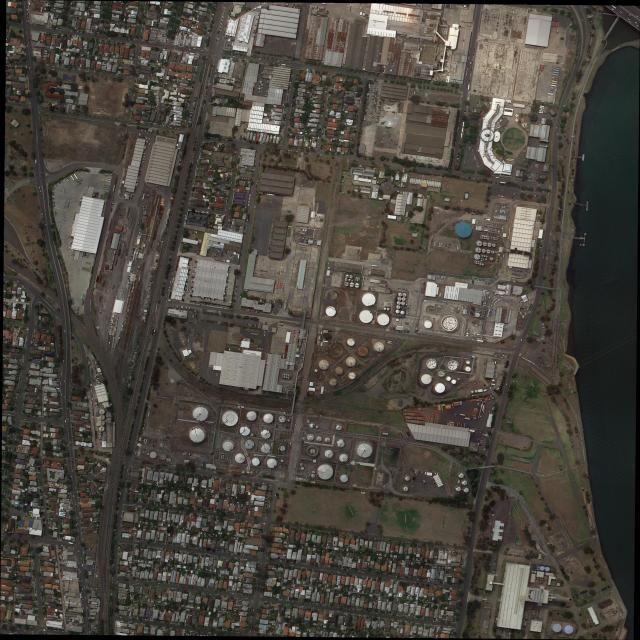large-vehicle: (487, 309, 491, 317), (81, 251, 84, 259), (276, 281, 279, 289), (67, 201, 70, 208), (280, 282, 283, 288), (282, 284, 284, 292), (267, 194, 275, 196), (372, 265, 380, 267), (69, 542, 74, 545), (279, 281, 281, 288), (461, 133, 463, 138), (75, 500, 77, 505), (468, 85, 470, 90), (463, 122, 465, 127), (462, 127, 464, 132), (58, 229, 60, 233), (282, 64, 286, 66), (294, 306, 301, 307)
small-vehicle: (165, 294, 168, 298), (63, 179, 66, 182), (563, 135, 566, 138), (552, 241, 555, 244), (551, 252, 554, 255), (219, 27, 222, 30), (78, 550, 80, 553), (78, 529, 80, 532), (62, 562, 65, 564), (37, 605, 39, 608), (62, 589, 65, 591), (60, 571, 63, 573), (13, 281, 16, 283), (17, 281, 20, 283), (63, 318, 65, 321), (64, 330, 66, 333), (44, 417, 47, 419), (77, 504, 79, 507), (15, 435, 17, 438), (41, 461, 43, 464), (125, 256, 127, 259), (127, 264, 129, 267), (127, 469, 129, 472), (144, 6, 146, 9), (143, 153, 146, 155), (199, 304, 202, 306), (222, 307, 225, 309), (182, 297, 185, 299), (126, 287, 129, 289), (168, 288, 170, 291), (182, 306, 184, 309), (89, 631, 91, 634), (97, 610, 99, 613), (87, 613, 89, 616), (183, 550, 186, 552), (135, 579, 138, 581), (112, 566, 114, 569), (171, 545, 174, 547), (137, 583, 140, 585), (175, 624, 178, 626), (27, 16, 29, 19), (159, 125, 162, 127), (155, 106, 158, 108), (147, 131, 149, 134), (59, 31, 62, 33), (141, 129, 143, 132), (143, 136, 145, 139), (55, 184, 58, 186), (53, 187, 56, 189), (5, 187, 7, 190), (138, 27, 140, 30), (140, 34, 142, 37), (90, 17, 93, 19), (11, 75, 14, 77), (196, 69, 198, 72), (183, 86, 186, 88), (186, 88, 189, 90), (209, 83, 211, 86), (193, 100, 196, 102), (188, 104, 190, 107), (127, 38, 130, 40), (130, 41, 133, 43), (117, 41, 120, 43), (135, 55, 137, 58), (158, 42, 161, 44), (164, 46, 167, 48), (467, 65, 469, 68), (566, 120, 569, 122), (557, 133, 559, 136), (565, 130, 567, 133), (471, 110, 474, 112), (552, 244, 554, 247), (540, 242, 543, 244), (498, 195, 501, 197), (527, 193, 529, 196), (375, 92, 378, 94), (374, 102, 377, 104), (373, 103, 376, 105), (370, 109, 373, 111), (391, 184, 394, 186), (392, 185, 395, 187), (393, 186, 396, 188), (211, 593, 214, 595), (480, 440, 483, 442), (480, 442, 483, 444), (483, 449, 486, 451), (491, 410, 494, 412), (492, 406, 495, 408), (498, 384, 501, 386), (506, 383, 508, 386), (484, 631, 487, 633), (462, 565, 464, 568), (492, 571, 495, 573), (517, 381, 520, 383), (494, 374, 497, 376), (543, 336, 546, 338), (537, 339, 539, 342), (503, 364, 506, 366), (520, 301, 523, 303), (436, 545, 439, 547), (261, 552, 263, 555), (341, 532, 344, 534), (234, 557, 237, 559), (261, 562, 263, 565), (321, 569, 324, 571), (445, 622, 448, 624), (414, 582, 417, 584), (433, 581, 436, 583), (451, 587, 454, 589), (320, 602, 323, 604), (400, 619, 403, 621), (266, 82, 269, 84), (207, 104, 209, 107), (231, 69, 234, 71), (232, 65, 235, 67), (264, 95, 267, 97), (260, 90, 263, 92), (225, 24, 227, 27), (217, 36, 220, 38), (224, 4, 227, 6), (223, 5, 226, 7), (259, 58, 262, 60), (281, 60, 284, 62), (216, 41, 218, 44), (249, 227, 251, 230), (185, 214, 187, 217), (206, 109, 208, 112), (64, 548, 66, 550), (64, 561, 66, 563), (62, 560, 64, 562), (61, 560, 63, 562), (60, 560, 62, 562), (34, 576, 36, 578), (87, 554, 89, 556), (83, 552, 85, 554), (42, 542, 44, 544), (61, 564, 63, 566), (81, 581, 83, 583), (80, 589, 82, 591), (37, 603, 39, 605), (20, 614, 22, 616), (81, 558, 83, 560), (83, 564, 85, 566), (43, 509, 45, 511), (18, 617, 20, 619), (45, 224, 47, 226), (92, 474, 94, 476), (10, 450, 12, 452), (7, 471, 9, 473), (137, 244, 139, 246), (140, 167, 142, 169), (164, 471, 166, 473), (247, 319, 249, 321), (202, 318, 204, 320), (235, 293, 237, 295), (241, 284, 243, 286), (163, 313, 165, 315), (81, 596, 83, 598), (95, 598, 97, 600), (85, 596, 87, 598), (86, 607, 88, 609), (89, 587, 91, 589), (92, 591, 94, 593), (151, 579, 153, 581), (20, 629, 22, 631), (1, 624, 3, 626), (130, 621, 132, 623), (150, 618, 152, 620), (26, 19, 28, 21), (162, 122, 164, 124), (146, 123, 148, 125), (143, 130, 145, 132), (142, 130, 144, 132), (163, 125, 165, 127), (175, 127, 177, 129), (40, 194, 42, 196), (42, 213, 44, 215), (62, 180, 64, 182), (60, 182, 62, 184), (58, 182, 60, 184), (54, 186, 56, 188), (53, 188, 55, 190), (146, 137, 148, 139), (147, 138, 149, 140), (148, 143, 150, 145), (117, 23, 119, 25), (141, 28, 143, 30), (18, 79, 20, 81), (92, 33, 94, 35), (85, 36, 87, 38), (189, 48, 191, 50), (201, 63, 203, 65), (200, 65, 202, 67), (183, 46, 185, 48), (133, 67, 135, 69), (178, 45, 180, 47), (183, 296, 185, 298), (471, 65, 473, 67), (472, 59, 474, 61), (563, 105, 565, 107), (563, 140, 565, 142), (563, 142, 565, 144), (487, 104, 489, 106), (469, 80, 471, 82), (466, 71, 468, 73), (469, 77, 471, 79), (553, 238, 555, 240), (553, 240, 555, 242), (552, 243, 554, 245), (542, 240, 544, 242), (204, 589, 206, 591), (543, 190, 545, 192), (373, 91, 375, 93), (380, 98, 382, 100), (376, 89, 378, 91), (381, 184, 383, 186), (382, 183, 384, 185), (455, 142, 457, 144), (383, 182, 385, 184), (473, 178, 475, 180), (469, 147, 471, 149), (480, 444, 482, 446), (529, 621, 531, 623), (484, 446, 486, 448), (484, 448, 486, 450), (544, 335, 546, 337), (543, 337, 545, 339), (542, 338, 544, 340), (541, 338, 543, 340), (257, 580, 259, 582), (195, 462, 197, 464), (214, 471, 216, 473), (274, 322, 276, 324), (206, 553, 208, 555), (401, 580, 403, 582), (384, 624, 386, 626), (213, 78, 215, 80), (230, 72, 234, 73), (232, 67, 234, 69), (214, 88, 216, 90), (261, 88, 263, 90), (261, 87, 263, 89), (244, 59, 246, 61), (223, 31, 225, 33), (218, 33, 220, 35), (219, 29, 221, 31), (220, 24, 222, 26), (225, 2, 227, 4), (218, 38, 220, 40), (287, 65, 289, 67), (207, 37, 209, 39), (208, 33, 210, 35), (229, 207, 231, 209), (183, 215, 185, 217), (231, 177, 233, 179), (66, 549, 69, 550), (58, 549, 61, 550), (70, 558, 71, 561), (71, 558, 72, 561), (75, 559, 76, 562), (29, 568, 32, 569), (35, 578, 36, 581), (45, 521, 46, 524), (84, 532, 87, 533), (32, 551, 33, 554), (60, 563, 61, 566), (84, 586, 85, 589), (82, 588, 83, 591), (41, 596, 42, 599), (33, 601, 36, 602), (37, 598, 38, 601), (26, 614, 27, 617), (78, 562, 79, 565), (82, 564, 83, 567), (62, 581, 65, 582), (62, 583, 65, 584), (70, 516, 71, 519), (61, 393, 62, 396), (23, 361, 24, 364), (63, 360, 64, 363), (56, 381, 59, 382), (64, 380, 65, 383), (60, 382, 61, 385), (64, 396, 65, 399), (91, 402, 92, 405), (89, 408, 90, 411), (8, 414, 11, 415), (24, 419, 27, 420), (30, 348, 31, 351), (31, 341, 32, 344), (53, 207, 56, 208), (80, 198, 83, 199), (80, 197, 83, 198), (80, 200, 83, 201), (32, 337, 33, 340), (48, 418, 51, 419), (4, 490, 5, 493), (69, 504, 70, 507), (44, 422, 47, 423), (65, 420, 66, 423), (68, 444, 69, 447), (70, 441, 71, 444), (69, 436, 70, 439), (92, 439, 93, 442), (81, 479, 84, 480), (34, 615, 37, 616), (257, 582, 258, 585), (139, 171, 142, 172), (138, 174, 141, 175), (131, 251, 134, 252), (131, 252, 134, 253), (131, 254, 134, 255), (128, 275, 131, 276), (128, 276, 131, 277), (127, 279, 130, 280), (127, 280, 130, 281), (127, 281, 130, 282), (127, 282, 130, 283), (139, 169, 142, 170), (142, 161, 145, 162), (142, 160, 145, 161), (119, 497, 120, 500), (161, 505, 164, 506), (131, 491, 134, 492), (196, 473, 199, 474), (143, 156, 146, 157), (126, 284, 129, 285), (126, 285, 129, 286), (126, 286, 129, 287), (196, 304, 199, 305), (204, 305, 207, 306), (176, 305, 177, 308), (178, 306, 179, 309), (168, 300, 171, 301), (141, 308, 142, 311), (191, 307, 192, 310), (186, 306, 187, 309), (162, 548, 165, 549), (94, 628, 97, 629), (95, 625, 98, 626), (53, 630, 56, 631), (56, 630, 59, 631), (94, 591, 97, 592), (94, 593, 97, 594), (94, 594, 97, 595), (89, 596, 92, 597), (68, 620, 71, 621), (18, 628, 19, 631), (146, 581, 149, 582), (157, 583, 160, 584), (157, 586, 160, 587), (126, 539, 129, 540), (137, 541, 140, 542), (168, 545, 171, 546), (19, 628, 20, 631), (123, 617, 126, 618), (151, 615, 152, 618), (197, 628, 200, 629), (27, 12, 28, 15), (28, 19, 29, 22), (52, 200, 55, 201), (59, 29, 62, 30), (143, 123, 146, 124), (145, 130, 146, 133), (139, 128, 140, 131), (139, 133, 140, 136), (191, 108, 194, 109), (191, 109, 194, 110), (190, 112, 193, 113), (190, 114, 193, 115), (190, 116, 193, 117), (189, 118, 192, 119), (189, 119, 192, 120), (177, 128, 180, 129), (145, 136, 146, 139), (62, 180, 63, 183), (52, 189, 55, 190), (52, 192, 55, 193), (52, 194, 55, 195), (52, 196, 55, 197), (52, 199, 55, 200), (39, 186, 40, 189), (26, 85, 27, 88), (58, 106, 61, 107), (64, 104, 67, 105), (64, 106, 67, 107), (70, 104, 73, 105), (69, 107, 72, 108), (192, 105, 195, 106), (49, 66, 52, 67), (52, 69, 55, 70), (59, 67, 62, 68), (66, 68, 69, 69), (85, 71, 88, 72), (88, 71, 91, 72), (126, 77, 129, 78), (141, 30, 142, 33), (74, 35, 77, 36), (26, 32, 27, 35), (29, 67, 30, 70), (17, 62, 20, 63), (108, 38, 111, 39), (198, 63, 199, 66), (180, 86, 183, 87), (193, 102, 196, 103), (180, 46, 183, 47), (121, 42, 124, 43), (113, 41, 116, 42), (149, 41, 152, 42), (146, 45, 149, 46), (190, 292, 193, 293), (190, 290, 193, 291), (464, 110, 467, 111), (469, 57, 470, 60), (464, 108, 467, 109), (485, 102, 486, 105), (486, 103, 487, 106), (465, 78, 466, 81), (471, 68, 472, 71), (467, 68, 468, 71), (466, 73, 467, 76), (556, 154, 557, 157), (535, 194, 536, 197), (540, 242, 543, 243), (540, 245, 543, 246), (539, 246, 542, 247), (539, 247, 542, 248), (201, 589, 204, 590), (499, 188, 500, 191), (542, 190, 543, 193), (552, 194, 553, 197), (546, 196, 547, 199), (464, 109, 467, 110), (370, 113, 373, 114), (379, 102, 382, 103), (378, 106, 381, 107), (377, 113, 380, 114), (376, 119, 379, 120), (403, 168, 404, 171), (372, 111, 375, 112), (372, 109, 375, 110), (375, 94, 378, 95), (374, 97, 377, 98), (374, 98, 377, 99), (374, 99, 377, 100), (374, 101, 377, 102), (373, 105, 376, 106), (457, 129, 458, 132), (470, 123, 471, 126), (462, 147, 465, 148), (476, 178, 477, 181), (454, 149, 455, 152), (453, 154, 454, 157), (472, 154, 473, 157), (217, 594, 220, 595), (489, 411, 490, 414), (491, 413, 494, 414), (492, 408, 495, 409), (500, 378, 503, 379), (479, 627, 482, 628), (486, 626, 489, 627), (462, 556, 463, 559), (469, 549, 470, 552), (490, 555, 493, 556), (494, 561, 497, 562), (493, 569, 496, 570), (486, 609, 489, 610), (488, 611, 491, 612), (487, 613, 490, 614), (487, 614, 490, 615), (486, 625, 489, 626), (513, 381, 516, 382), (540, 339, 541, 342), (539, 339, 540, 342), (536, 339, 537, 342), (532, 338, 533, 341), (494, 369, 497, 370), (503, 366, 506, 367), (499, 350, 502, 351), (523, 307, 524, 310), (522, 307, 523, 310), (520, 307, 521, 310), (475, 212, 476, 215), (200, 513, 203, 514), (218, 513, 221, 514), (201, 464, 204, 465), (373, 532, 374, 535), (377, 538, 380, 539), (263, 543, 264, 546), (244, 559, 247, 560), (303, 567, 306, 568), (240, 598, 243, 599), (245, 598, 248, 599), (253, 609, 254, 612), (265, 601, 268, 602), (250, 630, 251, 633), (256, 590, 257, 593), (260, 566, 261, 569), (291, 565, 294, 566), (434, 626, 435, 629), (403, 581, 406, 582), (401, 577, 404, 578), (427, 581, 430, 582), (446, 584, 449, 585), (449, 584, 452, 585), (439, 586, 442, 587), (431, 585, 434, 586), (448, 626, 451, 627), (337, 572, 340, 573), (415, 618, 418, 619), (346, 570, 349, 571), (284, 600, 287, 601), (291, 601, 294, 602), (285, 604, 288, 605), (294, 605, 297, 606), (345, 618, 346, 621), (267, 80, 270, 81), (261, 84, 264, 85), (265, 93, 268, 94), (243, 64, 246, 65), (217, 34, 220, 35), (219, 26, 222, 27), (228, 12, 229, 15), (223, 33, 224, 36), (260, 57, 263, 58), (269, 59, 272, 60), (272, 59, 275, 60), (277, 61, 280, 62), (207, 32, 210, 33), (207, 106, 208, 109), (373, 89, 376, 90), (227, 229, 230, 230), (247, 219, 248, 222), (229, 210, 230, 213), (224, 190, 227, 191), (231, 182, 232, 185), (234, 174, 235, 177), (195, 171, 196, 174), (196, 231, 197, 234), (198, 247, 201, 248), (198, 248, 201, 249), (257, 585, 258, 587), (72, 559, 73, 561), (59, 550, 61, 551), (59, 552, 61, 553), (77, 517, 78, 519), (38, 569, 39, 571), (89, 548, 90, 550), (25, 561, 27, 562), (78, 523, 79, 525), (54, 540, 56, 541), (60, 537, 61, 539), (61, 545, 63, 546), (80, 546, 81, 548), (37, 557, 38, 559), (33, 563, 34, 565), (38, 563, 39, 565), (63, 588, 65, 589), (84, 580, 85, 582), (83, 573, 84, 575), (85, 582, 86, 584), (81, 591, 82, 593), (38, 612, 39, 614), (25, 615, 26, 617), (63, 587, 65, 588), (63, 564, 64, 566), (63, 585, 65, 586), (64, 564, 65, 566), (93, 565, 94, 567), (79, 569, 80, 571), (79, 572, 80, 574), (80, 571, 81, 573), (30, 585, 32, 586), (36, 591, 37, 593), (80, 580, 81, 582), (61, 577, 63, 578), (4, 364, 6, 365), (57, 355, 58, 357), (93, 369, 94, 371), (68, 517, 69, 519), (67, 407, 68, 409), (92, 401, 93, 403), (33, 416, 35, 417), (27, 420, 29, 421), (8, 358, 9, 360), (7, 358, 8, 360), (53, 204, 55, 205), (53, 205, 55, 206), (53, 206, 55, 207), (80, 201, 82, 202), (71, 242, 73, 243), (70, 243, 72, 244), (32, 335, 33, 337), (56, 423, 58, 424), (75, 487, 76, 489), (67, 493, 69, 494), (73, 495, 74, 497), (71, 497, 72, 499), (72, 502, 73, 504), (5, 485, 6, 487), (5, 488, 6, 490), (4, 493, 5, 495), (74, 510, 75, 512), (78, 510, 79, 512), (66, 516, 67, 518), (42, 489, 43, 491), (97, 474, 99, 475), (54, 423, 56, 424), (68, 418, 69, 420), (75, 421, 77, 422), (13, 434, 14, 436), (15, 438, 16, 440), (83, 447, 85, 448), (71, 476, 72, 478), (81, 594, 82, 596), (132, 194, 134, 195), (131, 255, 133, 256), (118, 511, 119, 513), (128, 277, 130, 278), (127, 283, 129, 284), (163, 513, 164, 515), (168, 511, 169, 513), (173, 510, 175, 511), (134, 504, 136, 505), (120, 493, 121, 495), (125, 483, 126, 485), (145, 2, 146, 4), (143, 159, 145, 160), (177, 306, 178, 308), (174, 305, 175, 307), (226, 316, 227, 318), (235, 298, 236, 300), (240, 296, 241, 298), (236, 290, 237, 292), (231, 292, 233, 293), (237, 287, 238, 289), (180, 306, 181, 308), (172, 273, 173, 275), (170, 281, 171, 283), (169, 286, 170, 288), (193, 308, 194, 310), (190, 308, 191, 310), (189, 307, 190, 309), (187, 307, 188, 309), (185, 307, 186, 309), (181, 306, 182, 308), (121, 515, 122, 517), (98, 598, 99, 600), (93, 598, 94, 600), (90, 597, 91, 599), (99, 605, 100, 607), (99, 608, 100, 610), (95, 627, 97, 628), (95, 629, 97, 630), (95, 630, 97, 631), (62, 631, 64, 632), (95, 592, 97, 593), (83, 599, 84, 601), (82, 601, 83, 603), (82, 605, 83, 607), (83, 607, 84, 609), (83, 610, 84, 612), (91, 587, 92, 589), (90, 590, 91, 592), (89, 591, 90, 593), (92, 596, 94, 597), (95, 596, 97, 597), (95, 595, 97, 596), (69, 618, 71, 619), (170, 588, 172, 589), (172, 588, 174, 589), (175, 588, 177, 589), (113, 564, 114, 566), (115, 538, 116, 540), (115, 532, 116, 534), (112, 577, 113, 579), (112, 580, 113, 582), (25, 630, 26, 632), (15, 632, 17, 633), (6, 623, 8, 624), (3, 623, 5, 624), (114, 631, 115, 633), (141, 623, 143, 624), (111, 604, 112, 606), (111, 593, 112, 595), (112, 583, 113, 585), (53, 203, 55, 204), (53, 202, 55, 203), (53, 201, 55, 202), (27, 9, 28, 11), (50, 28, 52, 29), (150, 132, 151, 134), (157, 125, 159, 126), (148, 124, 150, 125), (134, 122, 136, 123), (140, 129, 141, 131), (140, 134, 141, 136), (170, 127, 172, 128), (192, 107, 194, 108), (191, 110, 193, 111), (191, 111, 193, 112), (190, 113, 192, 114), (190, 115, 192, 116), (190, 117, 192, 118), (189, 121, 191, 122), (189, 122, 191, 123), (187, 125, 188, 127), (142, 134, 143, 136), (52, 193, 54, 194), (53, 197, 55, 198), (42, 204, 43, 206), (40, 190, 41, 192), (149, 138, 150, 140), (22, 89, 24, 90), (59, 108, 61, 109), (64, 107, 66, 108), (64, 108, 66, 109), (192, 106, 194, 107), (193, 104, 195, 105), (64, 68, 66, 69), (101, 73, 103, 74), (111, 75, 113, 76), (121, 76, 123, 77), (142, 23, 143, 25), (52, 67, 54, 68), (20, 79, 21, 81), (138, 33, 139, 35), (70, 16, 72, 17), (80, 32, 82, 33), (88, 33, 90, 34), (27, 45, 28, 47), (28, 55, 29, 57), (10, 64, 12, 65), (138, 31, 139, 33), (193, 103, 195, 104), (193, 52, 195, 53), (202, 60, 203, 62), (176, 73, 178, 74), (170, 63, 171, 65), (194, 99, 196, 100), (185, 120, 186, 122), (201, 50, 203, 51), (117, 37, 119, 38), (149, 46, 151, 47), (139, 51, 140, 53), (138, 56, 139, 58), (163, 48, 165, 49), (165, 48, 167, 49), (474, 48, 475, 50), (468, 63, 469, 65), (472, 62, 473, 64), (473, 56, 474, 58), (473, 54, 474, 56), (474, 51, 475, 53), (475, 18, 476, 20), (556, 127, 557, 129), (468, 60, 469, 62), (469, 54, 470, 56), (470, 48, 471, 50), (469, 110, 470, 112), (476, 102, 477, 104), (470, 74, 471, 76), (471, 72, 472, 74), (502, 177, 503, 179), (503, 177, 504, 179), (533, 194, 534, 196), (569, 89, 570, 91), (583, 46, 584, 48), (534, 194, 535, 196), (536, 195, 537, 197), (505, 177, 506, 179), (534, 189, 535, 191), (536, 189, 537, 191), (538, 189, 539, 191), (495, 188, 496, 190), (502, 189, 503, 191), (514, 192, 515, 194), (512, 197, 513, 199), (527, 188, 528, 190), (546, 191, 547, 193), (464, 111, 466, 112), (370, 116, 372, 117), (379, 103, 381, 104), (379, 104, 381, 105), (379, 105, 381, 106), (377, 115, 379, 116), (464, 112, 466, 113), (377, 116, 379, 117), (377, 118, 379, 119), (402, 168, 403, 170), (373, 110, 375, 111), (373, 108, 375, 109), (376, 90, 378, 91), (376, 91, 378, 92), (373, 94, 375, 95), (374, 100, 376, 101), (371, 106, 373, 107), (405, 168, 406, 170), (469, 141, 470, 143), (456, 163, 458, 164), (456, 162, 458, 163), (457, 159, 459, 160), (457, 158, 459, 159), (457, 157, 459, 158), (455, 144, 456, 146), (456, 137, 457, 139), (457, 132, 458, 134), (458, 127, 459, 129), (459, 120, 460, 122), (459, 117, 460, 119), (473, 124, 474, 126), (469, 149, 470, 151), (473, 155, 474, 157), (385, 182, 386, 184), (492, 176, 493, 178), (454, 152, 455, 154), (453, 157, 454, 159), (453, 159, 454, 161), (471, 147, 472, 149), (472, 147, 473, 149), (232, 593, 234, 594), (474, 444, 475, 446), (485, 443, 487, 444), (241, 594, 243, 595), (492, 409, 494, 410), (508, 629, 509, 631), (461, 562, 463, 563), (495, 559, 497, 560), (494, 563, 496, 564), (494, 564, 496, 565), (493, 570, 495, 571), (542, 324, 544, 325), (543, 327, 545, 328), (544, 332, 546, 333), (535, 339, 536, 341), (534, 339, 535, 341), (376, 613, 378, 614), (370, 612, 372, 613), (542, 326, 544, 327), (542, 323, 544, 324), (476, 213, 477, 215), (525, 308, 526, 310), (520, 312, 521, 314), (521, 312, 522, 314), (522, 312, 523, 314), (523, 312, 524, 314), (524, 313, 525, 315), (490, 215, 491, 217), (468, 212, 469, 214), (469, 212, 470, 214), (407, 542, 409, 543), (382, 538, 384, 539), (274, 563, 276, 564), (280, 561, 282, 562), (210, 520, 211, 522), (271, 493, 272, 495), (276, 323, 277, 325), (251, 620, 252, 622), (254, 631, 255, 633), (264, 566, 265, 568), (208, 554, 210, 555), (210, 551, 212, 552), (221, 556, 223, 557), (231, 554, 233, 555), (410, 578, 412, 579), (382, 614, 384, 615), (391, 610, 392, 612), (394, 580, 396, 581), (410, 582, 412, 583), (417, 579, 419, 580), (433, 621, 435, 622), (362, 572, 364, 573), (355, 576, 356, 578), (356, 576, 357, 578), (302, 606, 304, 607), (337, 611, 339, 612), (348, 609, 350, 610), (399, 616, 401, 617), (411, 618, 413, 619), (373, 92, 375, 93), (373, 90, 375, 91), (185, 289, 187, 290), (262, 83, 264, 84), (260, 83, 262, 84), (262, 82, 264, 83), (262, 78, 264, 79), (267, 81, 269, 82), (213, 81, 214, 83), (214, 75, 215, 77), (231, 73, 233, 74), (258, 74, 259, 76), (262, 72, 263, 74), (236, 62, 238, 63), (259, 84, 261, 85), (259, 85, 261, 86), (261, 85, 263, 86), (209, 97, 210, 99), (210, 95, 211, 97), (210, 93, 211, 95), (258, 91, 260, 92), (266, 91, 268, 92), (258, 90, 260, 91), (260, 92, 262, 93), (259, 89, 261, 90), (258, 88, 260, 89), (259, 87, 261, 88), (259, 86, 261, 87), (244, 63, 246, 64), (209, 28, 211, 29), (214, 4, 216, 5), (214, 5, 216, 6), (229, 7, 230, 9), (229, 10, 230, 12), (225, 28, 226, 30), (233, 56, 235, 57), (278, 64, 280, 65), (289, 62, 291, 63), (216, 40, 218, 41), (207, 39, 209, 40), (207, 36, 209, 37), (208, 35, 210, 36), (209, 100, 210, 102), (246, 226, 247, 228), (184, 220, 185, 222), (195, 198, 197, 199), (223, 197, 225, 198), (233, 169, 234, 171), (199, 245, 201, 246), (185, 288, 187, 289), (185, 286, 187, 287), (44, 512, 45, 513), (44, 514, 45, 515), (44, 517, 45, 518), (96, 626, 97, 627), (22, 80, 23, 81), (273, 323, 274, 324), (252, 619, 253, 620), (80, 524, 80, 527), (80, 562, 80, 565), (45, 494, 45, 496), (40, 497, 42, 497), (79, 492, 82, 492), (46, 504, 46, 507), (173, 305, 173, 307), (89, 587, 91, 587), (169, 581, 169, 583), (180, 547, 183, 547), (166, 127, 168, 127), (143, 136, 143, 139), (59, 104, 61, 104), (69, 106, 72, 106), (69, 17, 69, 19), (77, 32, 79, 32), (14, 63, 17, 63), (466, 76, 466, 78), (538, 195, 538, 197), (529, 188, 529, 190), (378, 108, 380, 108), (376, 121, 378, 121), (376, 122, 378, 122), (373, 107, 375, 107), (457, 134, 457, 136), (460, 115, 460, 117), (469, 146, 469, 149), (209, 520, 209, 522), (347, 534, 349, 534), (223, 192, 226, 192)
storage-tank: (442, 315, 459, 333), (456, 222, 472, 238), (222, 411, 238, 427), (189, 428, 205, 443), (318, 465, 333, 480), (193, 407, 208, 422), (357, 444, 372, 458), (362, 294, 376, 307), (360, 310, 373, 323), (377, 314, 390, 326), (448, 361, 459, 371), (426, 359, 437, 369), (435, 383, 446, 393), (307, 447, 318, 457), (235, 454, 246, 464), (357, 346, 368, 356), (247, 411, 257, 421), (263, 413, 273, 423), (240, 426, 250, 436), (261, 444, 271, 454), (319, 360, 329, 370), (326, 307, 336, 317), (267, 458, 277, 468), (223, 442, 234, 451), (422, 375, 432, 384), (375, 342, 384, 352), (261, 430, 271, 439), (347, 357, 356, 367), (339, 454, 348, 463), (245, 440, 254, 449), (564, 626, 574, 634), (553, 624, 562, 632), (337, 439, 345, 448), (424, 321, 432, 329), (325, 450, 333, 458), (252, 458, 260, 466), (341, 475, 349, 482), (348, 373, 356, 380), (150, 451, 157, 458), (348, 339, 355, 346), (336, 368, 343, 375), (330, 380, 337, 386), (439, 371, 445, 377), (474, 254, 480, 260), (99, 409, 105, 415), (336, 425, 342, 431), (308, 435, 314, 441), (456, 486, 461, 492), (99, 415, 105, 420), (99, 421, 105, 426), (99, 426, 104, 432), (161, 454, 166, 460), (280, 417, 285, 423), (317, 436, 322, 442), (325, 437, 330, 443), (466, 367, 471, 372), (459, 473, 464, 478), (462, 480, 467, 485), (464, 488, 469, 493), (446, 376, 451, 381), (400, 310, 405, 315), (405, 476, 410, 481), (540, 566, 545, 571), (477, 241, 482, 246), (476, 248, 481, 253), (280, 446, 285, 451), (355, 283, 360, 288), (344, 281, 349, 286), (404, 487, 409, 491), (402, 293, 407, 297), (545, 567, 550, 571), (170, 379, 175, 383), (350, 282, 354, 287), (452, 380, 456, 384), (396, 310, 400, 314), (397, 305, 401, 309), (401, 301, 405, 305), (311, 474, 315, 478), (398, 293, 402, 297), (398, 297, 402, 301), (402, 297, 406, 301), (397, 301, 401, 305), (476, 313, 480, 317), (483, 242, 487, 246), (488, 243, 492, 247), (482, 249, 486, 253), (487, 250, 491, 254), (490, 257, 494, 261), (310, 424, 314, 428), (349, 275, 353, 279), (466, 361, 470, 364), (491, 250, 494, 254), (315, 425, 319, 428), (471, 390, 474, 393), (475, 390, 478, 393), (457, 310, 460, 313), (492, 244, 495, 247), (301, 467, 304, 470), (315, 369, 318, 372), (307, 420, 310, 423), (362, 13, 365, 16), (346, 275, 349, 278), (345, 278, 348, 281), (348, 279, 351, 282), (384, 307, 386, 310), (387, 308, 389, 311), (476, 310, 478, 313), (534, 571, 537, 573), (485, 258, 487, 261), (288, 419, 290, 422), (281, 460, 284, 462), (251, 471, 253, 474), (351, 280, 354, 282), (458, 378, 460, 380), (480, 261, 482, 263), (478, 261, 480, 263), (532, 571, 534, 573), (537, 566, 539, 568), (478, 311, 480, 313), (482, 264, 484, 266), (480, 263, 482, 265), (298, 376, 300, 378), (284, 374, 286, 376), (283, 376, 285, 378), (286, 374, 288, 376), (288, 374, 290, 376), (288, 377, 290, 379), (305, 230, 307, 232), (537, 569, 539, 570), (482, 260, 484, 261), (483, 258, 484, 260), (481, 258, 482, 260), (482, 255, 483, 257), (484, 256, 486, 257), (486, 256, 488, 257), (286, 377, 288, 378), (303, 229, 304, 231), (481, 260, 482, 261), (476, 261, 477, 262), (476, 263, 477, 264), (478, 263, 479, 264)
